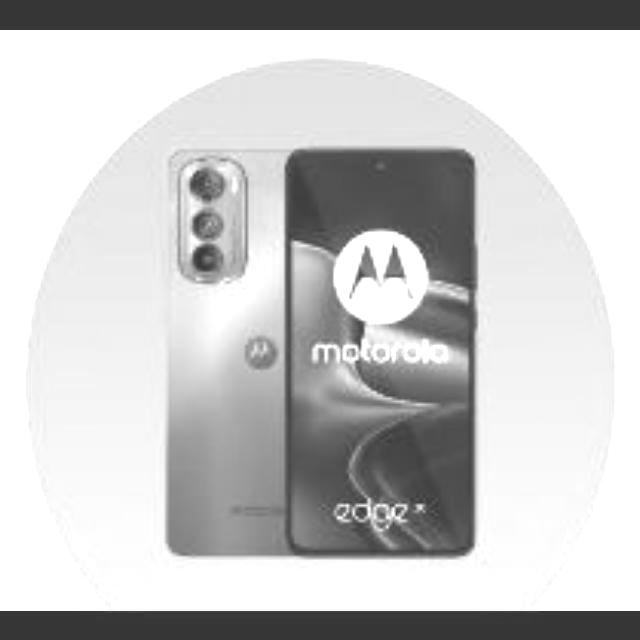fake: (160, 142, 476, 556), (284, 140, 480, 554)
